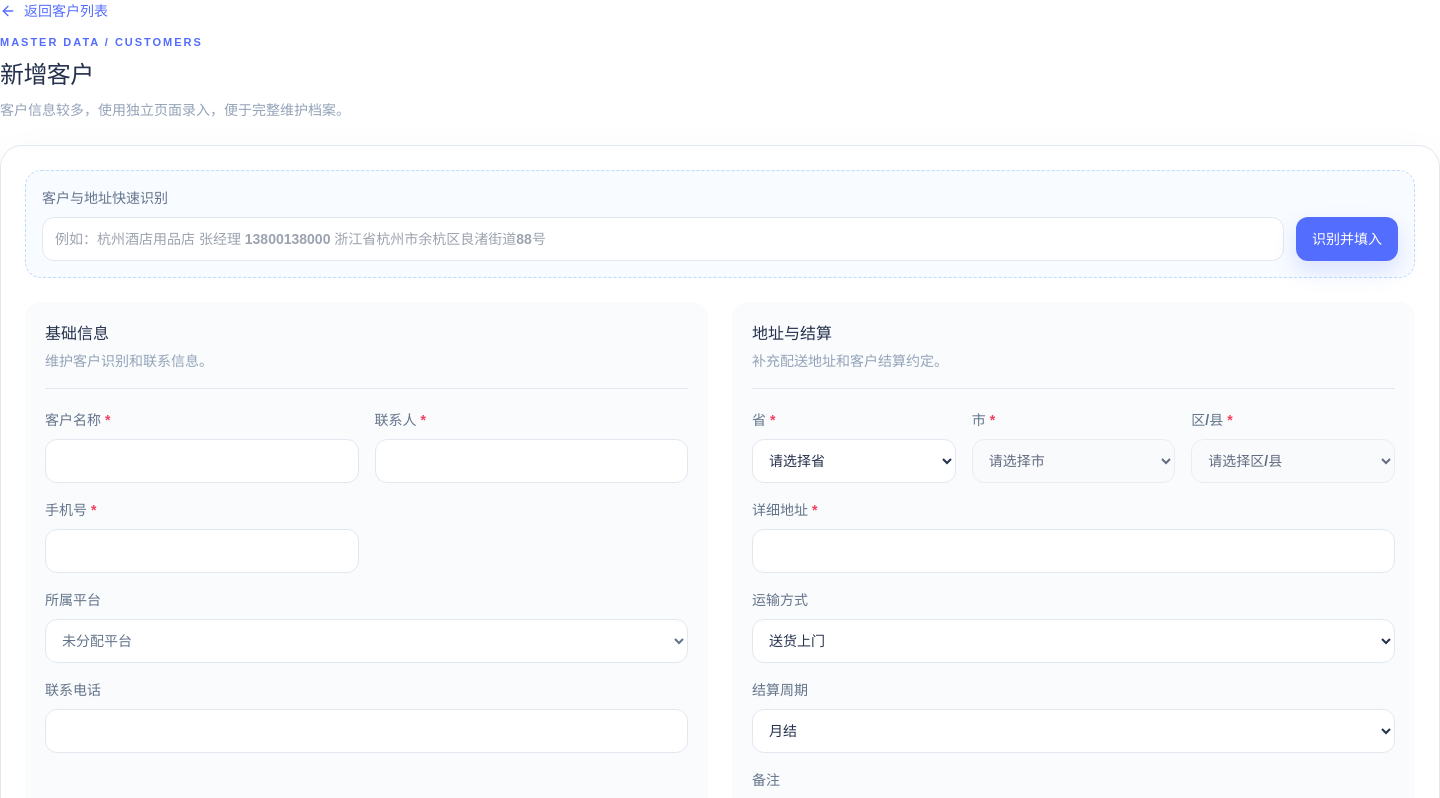
Test: masterdata views › parses customer identity and address from one pasted line at the top of the form
Step 1. Type "杭州酒店用品店 张经理 13800138000 浙江省杭州市余杭区良渚街道88号" into the field with test id "customer-parse-address" → (663, 238), box [42,216,1284,260]
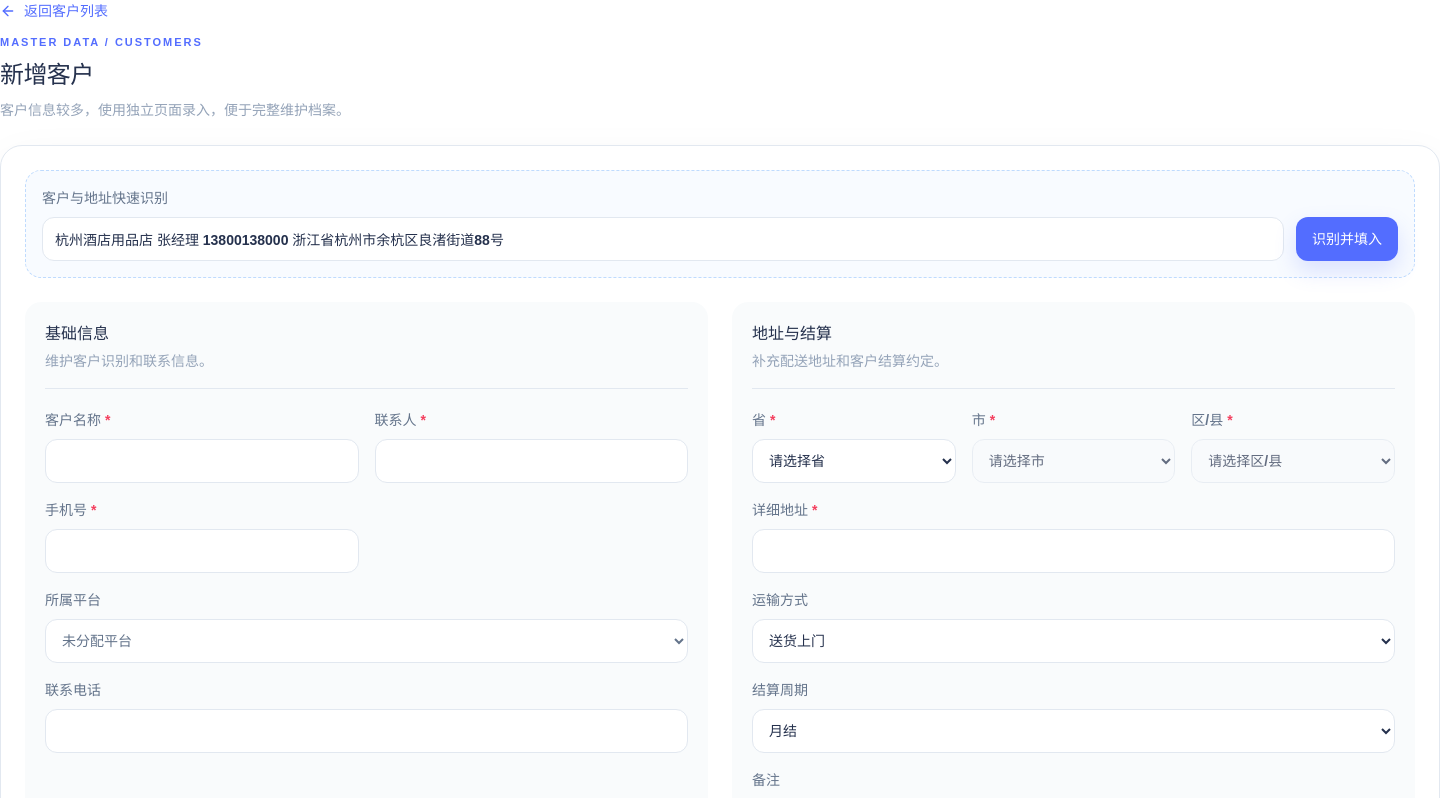
Step 2. Click the button with test id "parse-address" → (1347, 238), box [1296,216,1398,260]
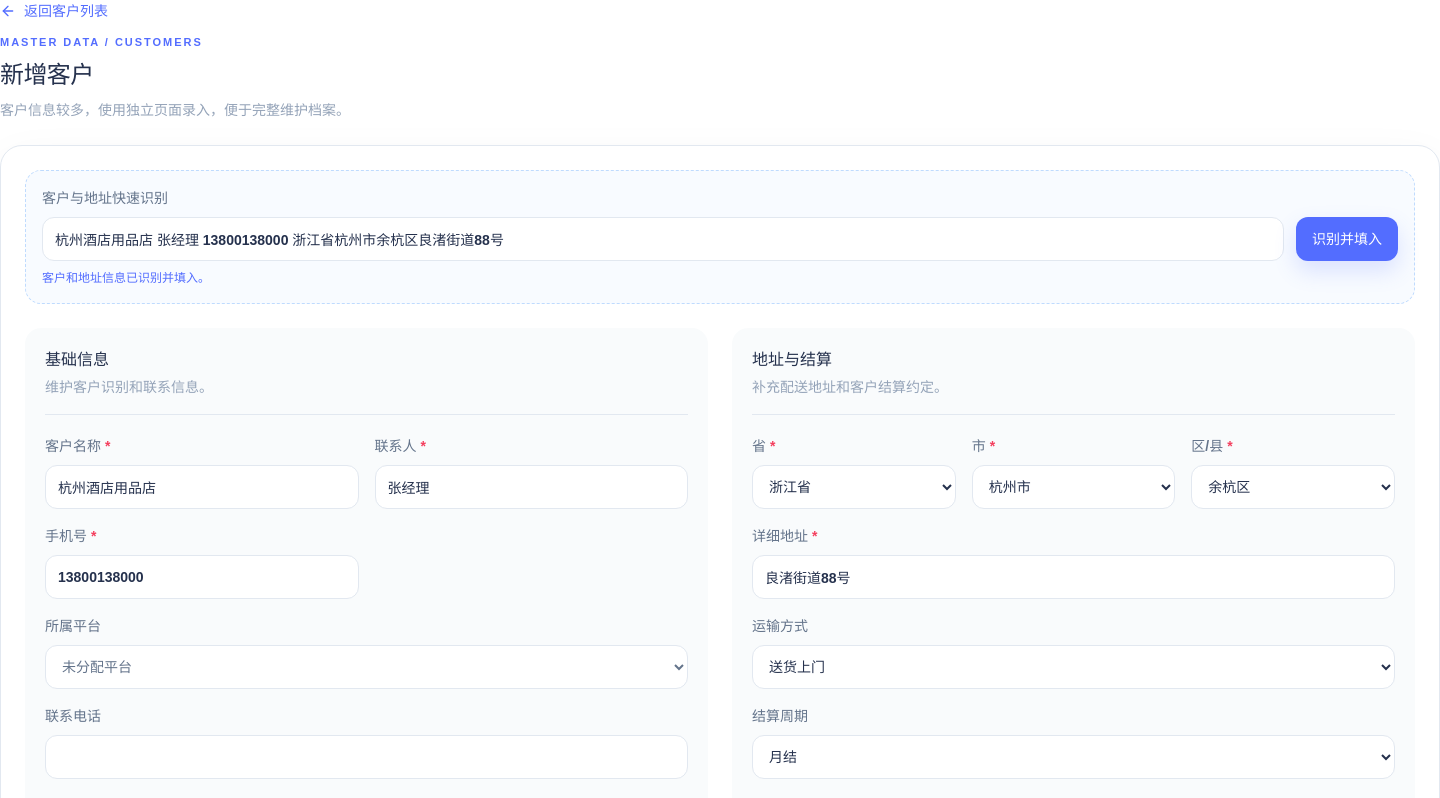
Result: the field with test id "customer-name" holds "杭州酒店用品店" at [45,464,358,508]
Result: the field with test id "customer-contact" holds "张经理" at [374,464,688,508]
Result: the field with test id "customer-mobile" holds "13800138000" at [45,554,358,598]
